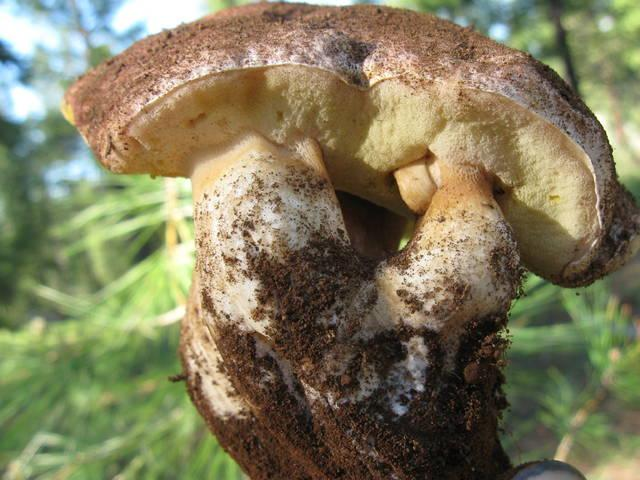edible_mushroom: (59, 0, 639, 479)
